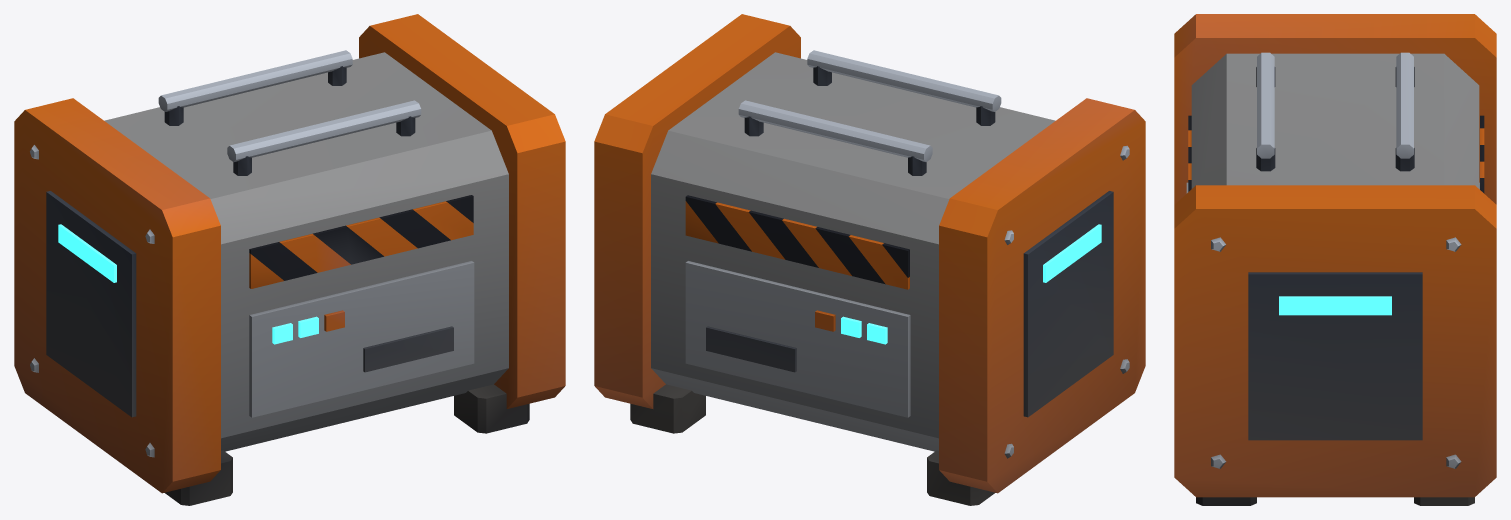
The model's file is cargo_pod.glb.
3 renders of one model, left to right at view 1: azimuth 30°, elevation 25°; view 2: azimuth 150°, elevation 25°; view 3: azimuth 270°, elevation 25°, orthographic.
Visible parts, largest first — view 1: cargo_pod; view 2: cargo_pod; view 3: cargo_pod.
Boxes of the visible parts, x1,y1,x2,y2 form: cargo_pod: (14, 14, 565, 505); cargo_pod: (594, 14, 1145, 505); cargo_pod: (1174, 14, 1496, 505).
Size of the model in its own units: 1.1 by 0.8125 by 0.74.
